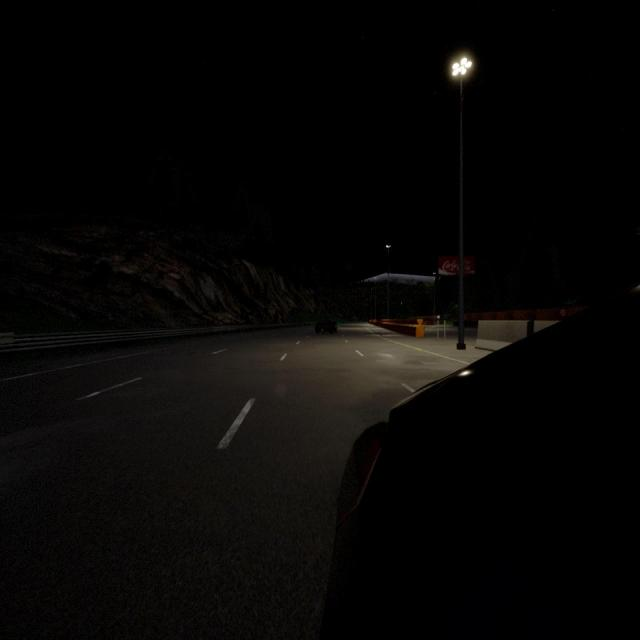Traffic_Signs: (560, 309, 566, 316)
Vehicle: (321, 286, 639, 638), (315, 319, 337, 334)
